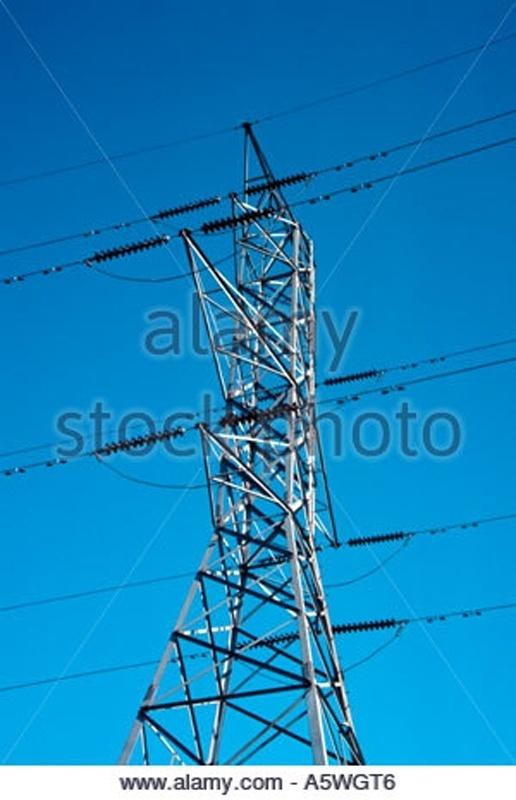power_tower: (90, 109, 419, 763)
